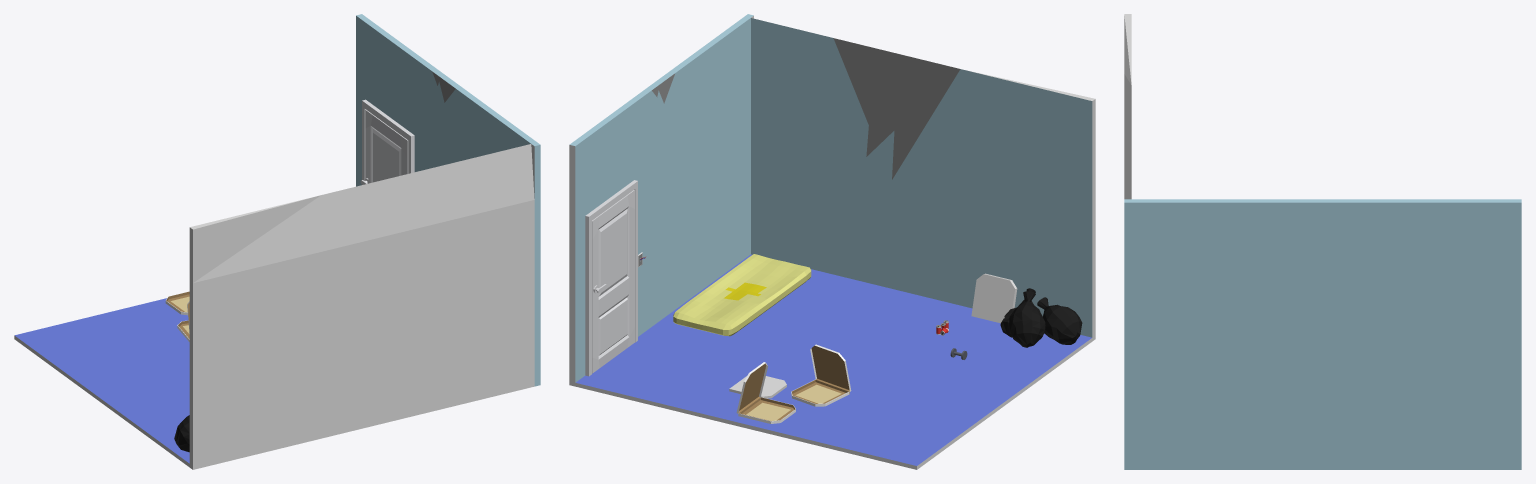
The model's file is Room0.fbx.
3 renders of one model, left to right at view 1: azimuth 30°, elevation 25°; view 2: azimuth 150°, elevation 25°; view 3: azimuth 270°, elevation 25°, orthographic. The views are drawn at different scales.
Parts seen in each view (by area): view 1: Cube.004, Cube.009; view 2: Cube.004, Cube.009, Cube.001, Cube.008, Cube.002, Cube, Trash1, Trash1.002, Cube.005; view 3: Cube.004.
Boxes of the visible parts, x1,y1,x2,y2 form: Cube.004: (14,14,540,469); Cube.009: (360,99,414,184); Cube.004: (569,14,1095,469); Cube.009: (585,180,637,376); Cube.001: (673,254,811,336); Cube.008: (791,344,851,406); Cube.002: (736,362,795,423); Cube: (971,273,1017,323); Trash1: (1009,291,1045,347); Trash1.002: (1037,297,1082,344); Cube.005: (729,376,786,398); Cube.004: (1124,14,1521,469).
Bounding box in the file's own units: 10891 × 7186 × 9680.
